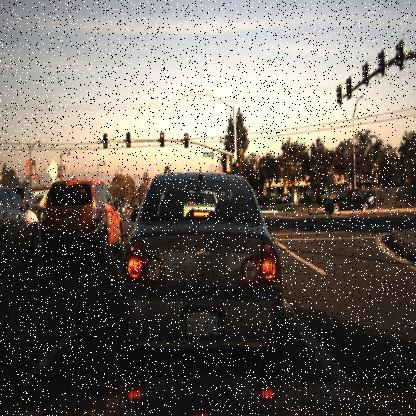car: (121, 173, 279, 373), (42, 177, 124, 261), (0, 183, 42, 262), (320, 184, 375, 214), (4, 180, 46, 216)
trafficLight-GreenLeft: (102, 129, 110, 150), (124, 130, 132, 151)
trafficLight-Red: (182, 132, 190, 152), (159, 129, 167, 148), (234, 160, 242, 178)
